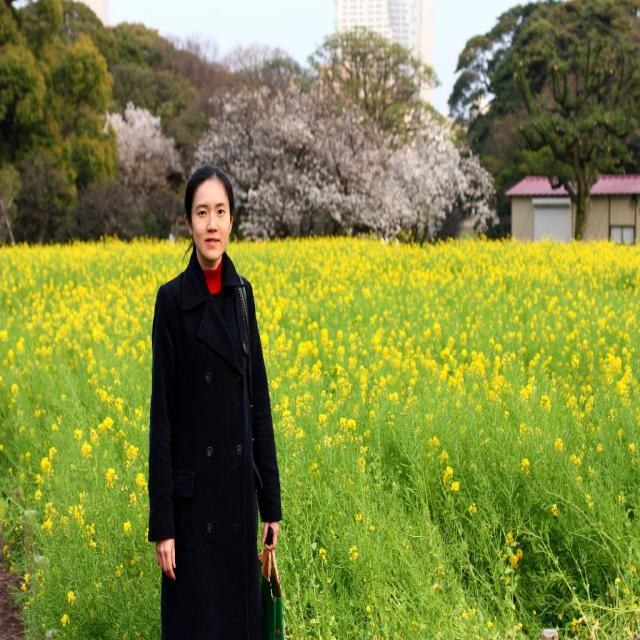no_helmet: (176, 213, 235, 240)
